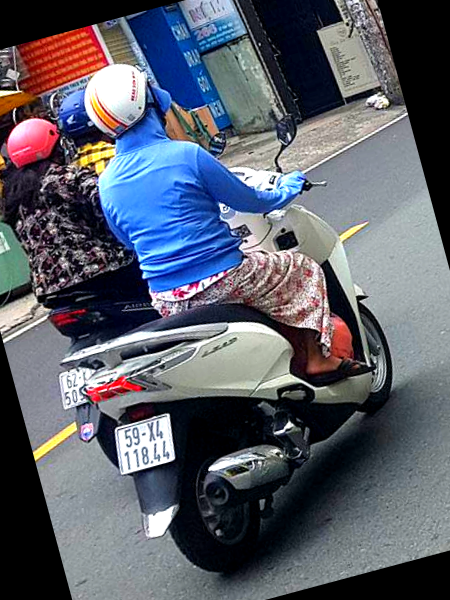number: (111, 417, 176, 471)
